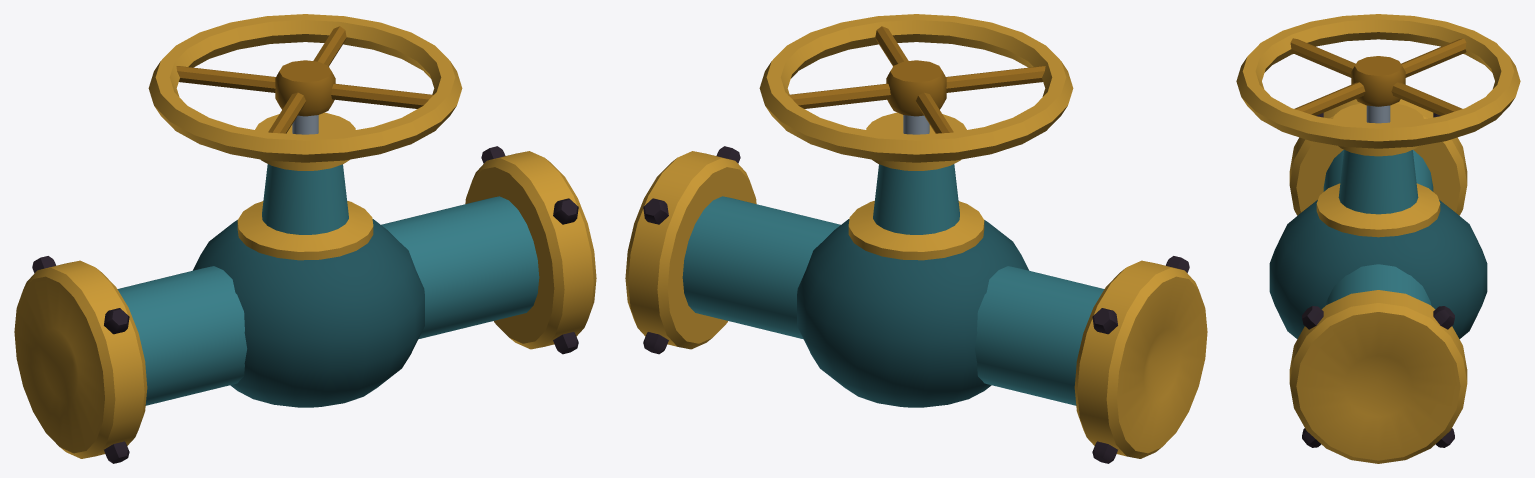
The model's file is Valve_25.glb.
3 views of the same model, side by side, from view 1: azimuth 30°, elevation 25°; view 2: azimuth 150°, elevation 25°; view 3: azimuth 270°, elevation 25° (orthographic). The views are drawn at different scales.
Parts seen in each view (by area): view 1: Valve_25; view 2: Valve_25; view 3: Valve_25.
Part boxes in pixels (bbox=[...]): Valve_25: bbox=[14, 14, 596, 463]; Valve_25: bbox=[625, 14, 1207, 463]; Valve_25: bbox=[1236, 14, 1520, 463].
Size of the model in its own units: 3.02 by 1.91 by 1.67.
